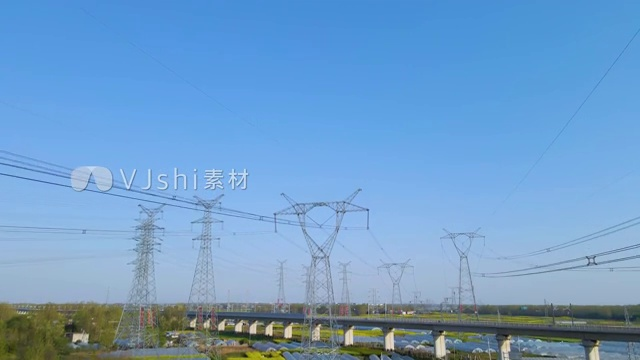tower_body: (267, 188, 377, 360), (105, 197, 171, 354), (182, 190, 235, 357), (436, 225, 494, 325)
tower_foot: (298, 316, 338, 357), (107, 326, 160, 352), (181, 333, 221, 360), (454, 293, 483, 320)
tower_head: (272, 191, 371, 255), (439, 228, 488, 257), (190, 195, 229, 210), (134, 203, 167, 220)
